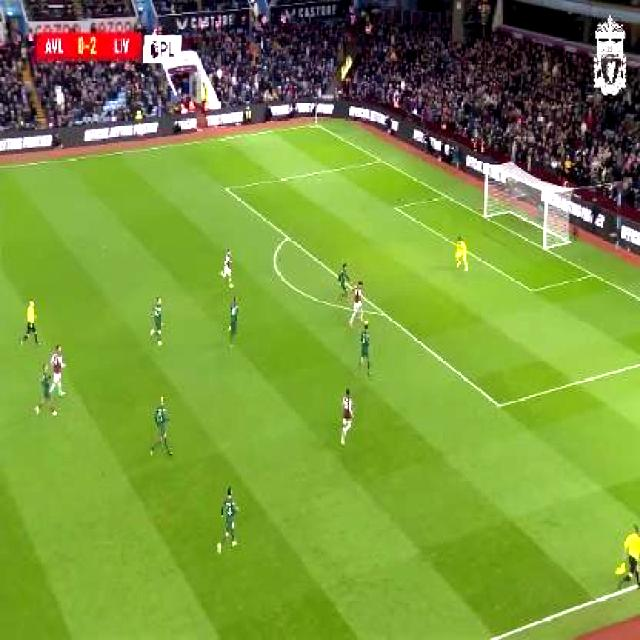bigarea_bottom_inner: (489, 392, 508, 416)
bigarea_top_inner: (218, 178, 232, 197)
bigarea_top_outter: (374, 152, 388, 166)
bottom_arc_area_intersection: (376, 303, 390, 322)
corner: (306, 118, 322, 131)
smallarea_bottom_inner: (523, 278, 539, 298)
smallarea_bottom_outter: (584, 264, 598, 282)
smallarea_top_inner: (388, 200, 400, 214)
smallarea_top_outter: (438, 188, 452, 203)
top_arc_area_intersection: (280, 228, 292, 245)
